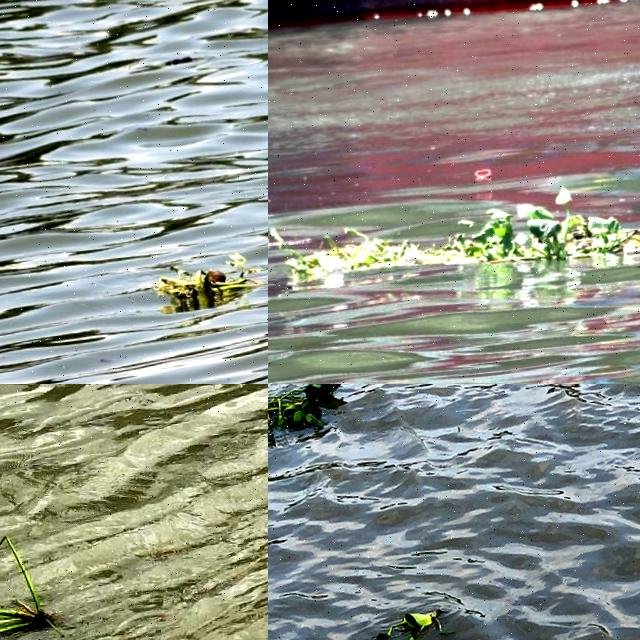water-hyacinth: (269, 191, 640, 296), (1, 536, 112, 640), (150, 253, 260, 311), (269, 385, 350, 458)
